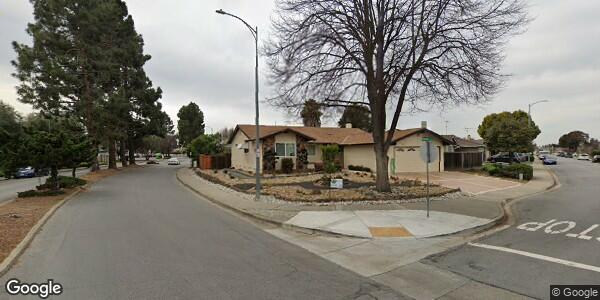Steel_Pole: (213, 7, 264, 201), (527, 96, 551, 166)
